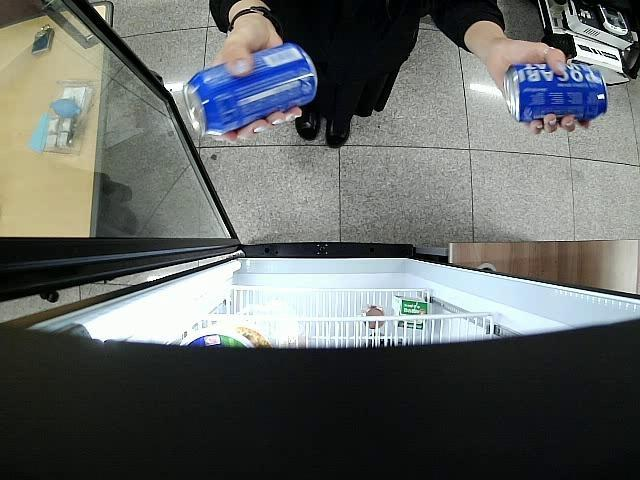13_pocariSweat: (183, 39, 317, 135), (505, 63, 609, 126)
